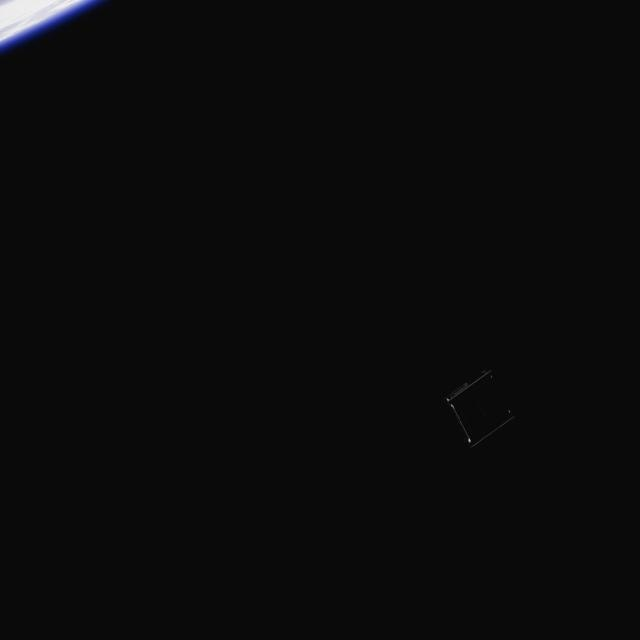medium_debris: (439, 360, 517, 449)
